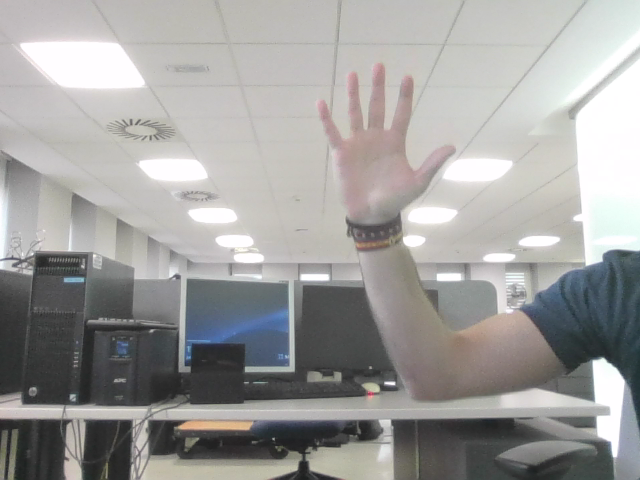Mano Abierta: (325, 74, 441, 194)
